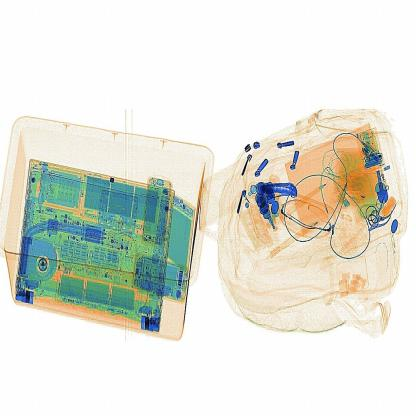knife: (256, 174, 310, 208)
